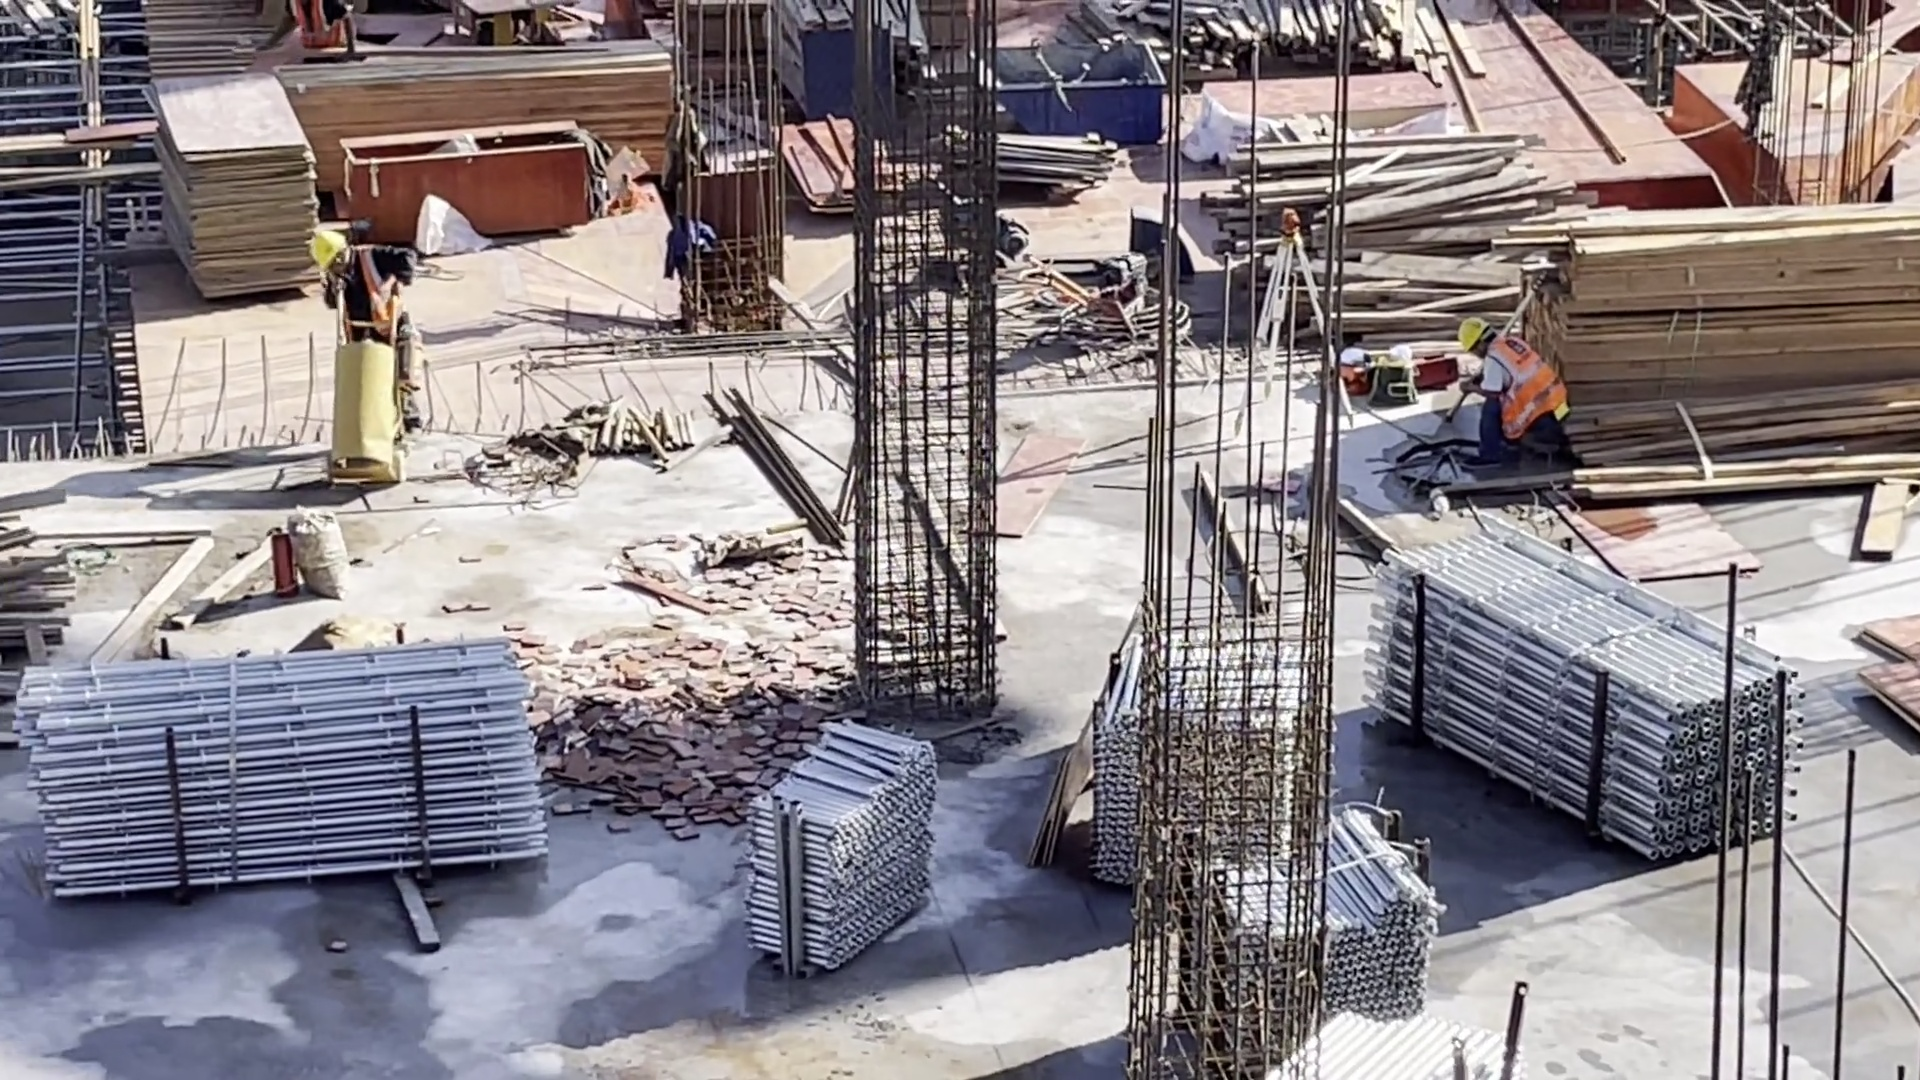board: (150, 72, 332, 312)
helmet: (307, 234, 347, 264), (1459, 316, 1485, 351)
hopper: (972, 43, 1165, 148)
person: (307, 234, 430, 430), (1449, 315, 1567, 479)
scaffold: (1100, 611, 1531, 1080), (1359, 516, 1803, 865), (15, 633, 552, 898), (750, 718, 936, 970)
vest: (1489, 335, 1561, 439), (326, 247, 404, 338)
wood: (1494, 209, 1920, 500), (1209, 135, 1531, 361), (281, 29, 670, 190)
